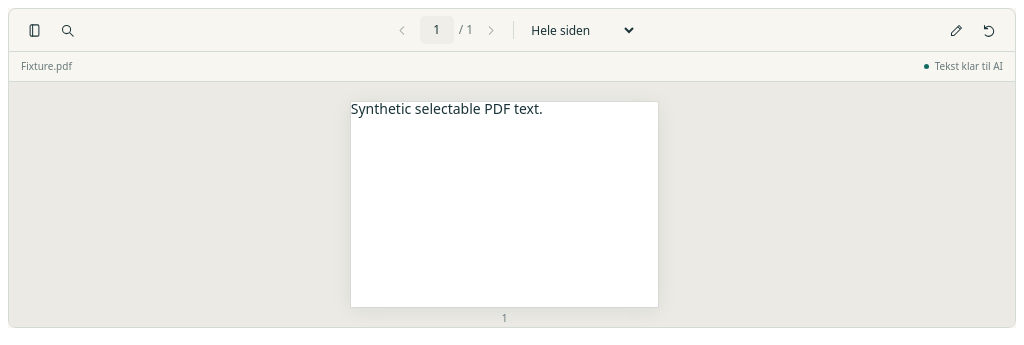
it: direct rotation swaps the rendered page dimensions and restores editing after a full turn
Click the button named "Rotér PDF-side": (990, 30) [974,15,1005,45]
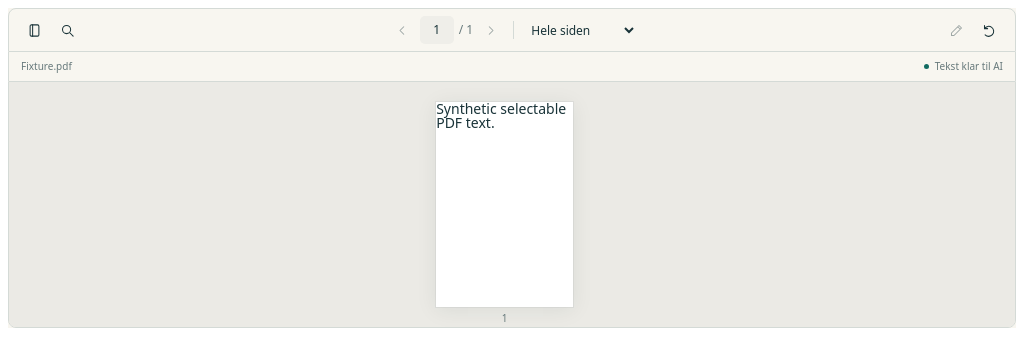
Result: the button named "Redigér PDF" is disabled at [941,15,972,45]
Click the button named "Rotér PDF-side": (990, 30) [974,15,1005,45]
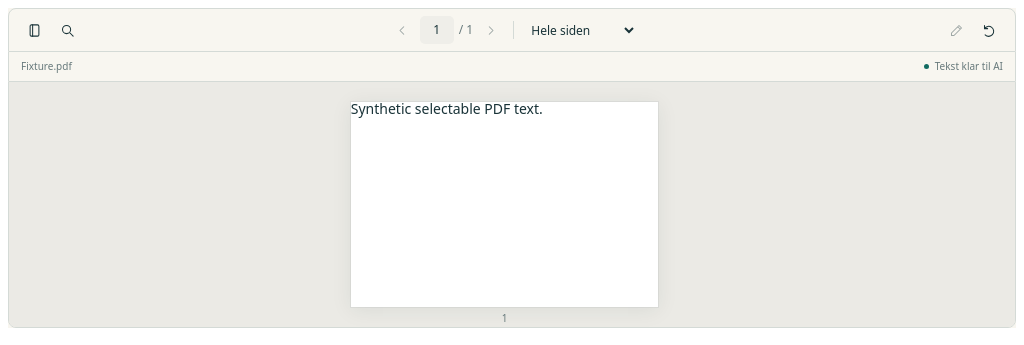
Click the button named "Rotér PDF-side": (990, 30) [974,15,1005,45]
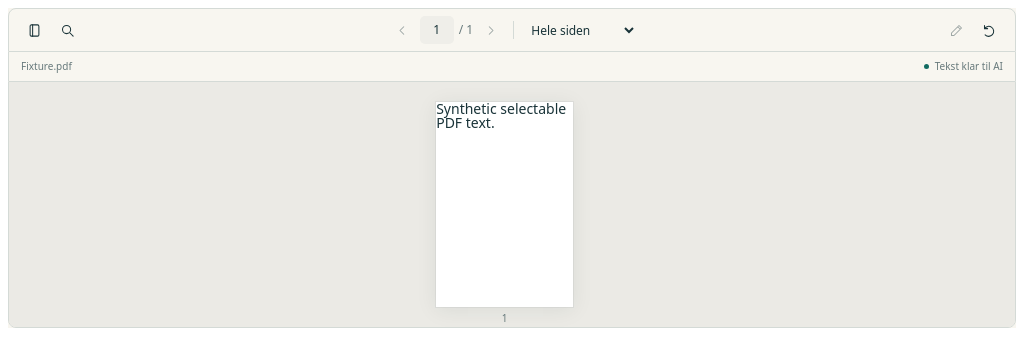
Click the button named "Rotér PDF-side": (990, 30) [974,15,1005,45]
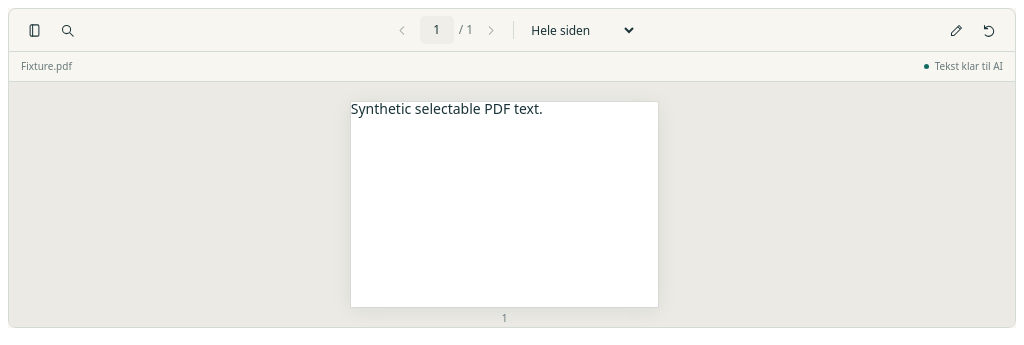
Result: the button named "Redigér PDF" is enabled at [941,15,972,45]
